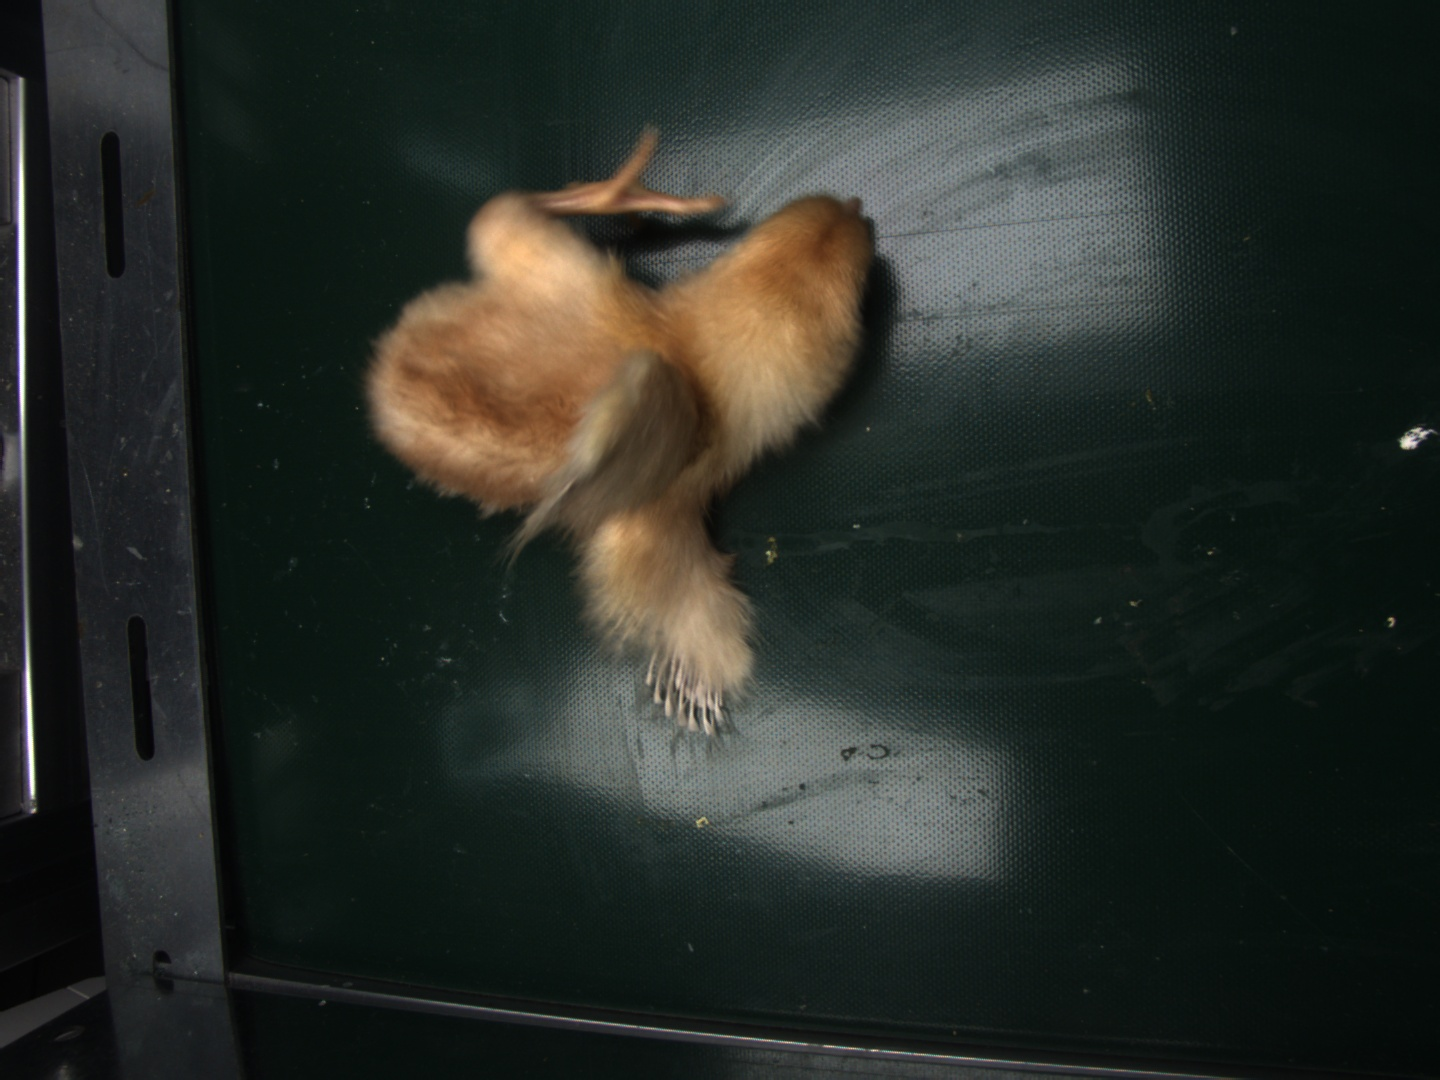female: (643, 649, 728, 736)
